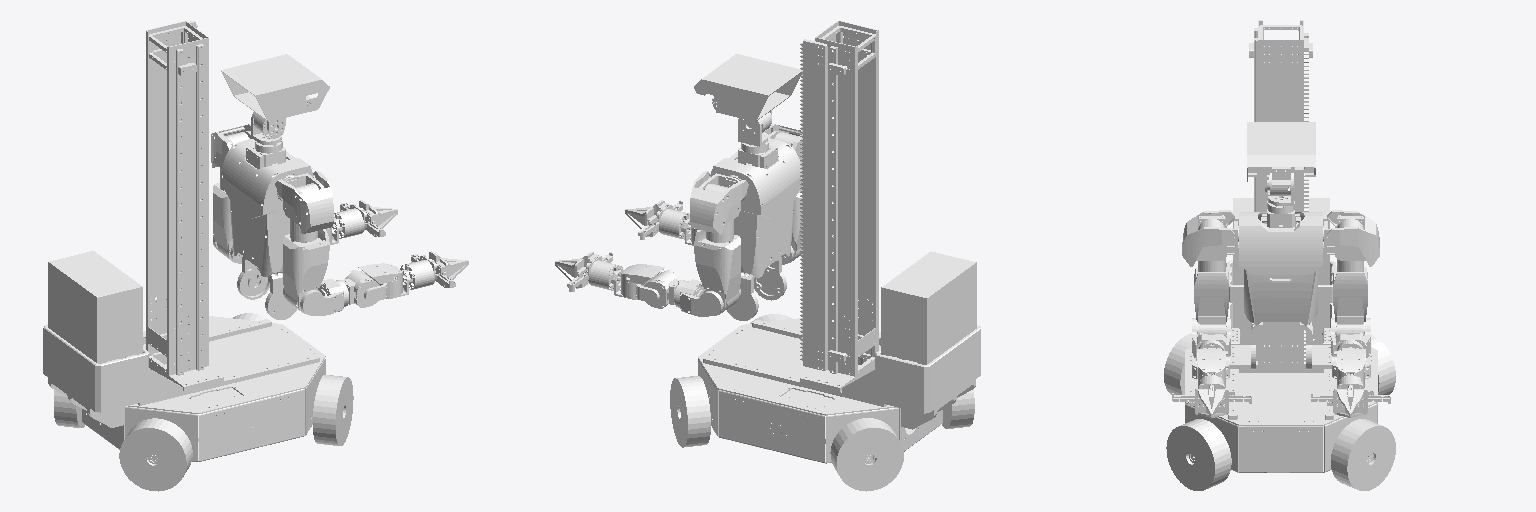
--- What the picture shows (computed from the rendered views, not written in the file) ---
Views: 3 orthographic renders of the robot side by side, from view 1: azimuth 30°, elevation 25°; view 2: azimuth 150°, elevation 25°; view 3: azimuth 270°, elevation 25°.
Robot: converted_robot — 46 links, 45 joints (17 revolute, 28 fixed); root link world; default pose: all joints at 0.
Visible links, largest first — view 1: root, link2, link4, link15, link16, link17, link20, link19, link11, link7, link6, link18 (+1 smaller); view 2: root, link2, link4, link6, link7, link8, link11, link20, link10, link3, link9, link15; view 3: root, link2, link4, link15, link6, link16, link7, link10, link19, link8, link17, link20 (+2 smaller).
Boxes of the visible links, left/top/right/bottom form: root: left=43, top=21, right=353, bottom=491; link2: left=221, top=139, right=312, bottom=319; link4: left=221, top=54, right=329, bottom=136; link15: left=275, top=171, right=333, bottom=242; link16: left=283, top=229, right=329, bottom=313; link17: left=283, top=279, right=348, bottom=315; link20: left=386, top=254, right=455, bottom=298; link19: left=358, top=263, right=402, bottom=301; link11: left=330, top=203, right=385, bottom=244; link7: left=213, top=183, right=235, bottom=262; link6: left=211, top=124, right=250, bottom=190; link18: left=342, top=270, right=379, bottom=307; root: left=670, top=21, right=980, bottom=491; link2: left=711, top=138, right=801, bottom=320; link4: left=694, top=54, right=802, bottom=121; link6: left=690, top=171, right=748, bottom=242; link7: left=694, top=230, right=740, bottom=314; link8: left=674, top=279, right=740, bottom=316; link11: left=567, top=252, right=637, bottom=299; link20: left=638, top=200, right=693, bottom=245; link10: left=621, top=264, right=664, bottom=302; link3: left=738, top=112, right=771, bottom=146; link9: left=644, top=270, right=679, bottom=308; link15: left=764, top=124, right=801, bottom=190; root: left=1164, top=20, right=1395, bottom=490; link2: left=1238, top=201, right=1323, bottom=369; link4: left=1247, top=122, right=1315, bottom=191; link15: left=1182, top=210, right=1234, bottom=271; link6: left=1327, top=210, right=1379, bottom=271; link16: left=1194, top=267, right=1228, bottom=336; link7: left=1333, top=267, right=1367, bottom=335; link10: left=1332, top=351, right=1370, bottom=387; link19: left=1192, top=351, right=1229, bottom=388; link8: left=1331, top=318, right=1370, bottom=359; link17: left=1192, top=318, right=1230, bottom=359; link20: left=1172, top=374, right=1251, bottom=408.
Size in the robot's own frame: 0.9049 by 0.5054 by 0.963 metres.
Meshes: 23 distinct files referenced, 44 mesh visuals loaded (22 binary STL); not drawn: 2 (reference not matched to a file when rendering).

robot.urdf — converted_robot:
<?xml version="1.0" ?>
<robot name="converted_robot">
   <!--generated with mjcf_urdf_simple_converter (https://github.com/Yasu31/mjcf_urdf_simple_converter)-->
   <link name="world">
      <inertial>
         <origin xyz="0.0 0.0 0.0" rpy="0.0 0.0 0.0"/>
         <mass value="0.0"/>
         <inertia ixx="0.0" iyy="0.0" izz="0.0" ixy="0" ixz="0" iyz="0"/>
      </inertial>
   </link>
   <link name="root">
      <inertial>
         <origin xyz="-0.04852847103017505 0.0003415835183364383 0.16287500669757893" rpy="-0.3533195321034629 0.019688133800799923 1.5918492551555619"/>
         <mass value="119.88571006934463"/>
         <inertia ixx="6.263952309625989" iyy="5.180138643967895" izz="3.3478971078051813" ixy="0" ixz="0" iyz="0"/>
      </inertial>
      <visual name="base_link">
         <origin xyz="-0.04852847103017505 0.0003415835183364383 0.16287500669757893" rpy="-0.35331953207738753 0.01968813428564342 1.5918492564531967"/>
         <geometry>
            <mesh filename="converted_base_link.stl"/>
         </geometry>
         <material name="white"/>
      </visual>
      <visual name="base_link">
         <origin xyz="-0.04852847103017505 0.0003415835183364383 0.16287500669757893" rpy="-0.35331953207738753 0.01968813428564342 1.5918492564531967"/>
         <geometry>
            <mesh filename="converted_base_link.stl"/>
         </geometry>
         <material name="white"/>
      </visual>
   </link>
   <joint type="fixed" name="world2root_fixed">
      <parent link="world"/>
      <child link="root"/>
      <origin xyz="0.0 0.0 0.05" rpy="0.0 0.0 0.0"/>
   </joint>
   <link name="link1">
      <inertial>
         <origin xyz="-0.010805 -0.00069779 -0.059694" rpy="-0.49485325156543425 -1.5232990928639514 -2.6441288602455355"/>
         <mass value="6.205"/>
         <inertia ixx="0.0672963" iyy="0.0603866" izz="0.019857" ixy="0" ixz="0" iyz="0"/>
      </inertial>
      <visual name="link1">
         <origin xyz="-0.04279064031251925 -0.0017203424409860362 -0.060254987938210776" rpy="2.4629428494877446 -1.549671796387563 0.6632190085288882"/>
         <geometry>
            <mesh filename="converted_link1.stl"/>
         </geometry>
         <material name="white"/>
      </visual>
      <visual name="link1">
         <origin xyz="-0.04279064031251925 -0.0017203424409860362 -0.060254987938210776" rpy="2.4629428494877446 -1.549671796387563 0.6632190085288882"/>
         <geometry>
            <mesh filename="converted_link1.stl"/>
         </geometry>
         <material name="white"/>
      </visual>
   </link>
   <link name="joint1_jointbody">
      <inertial>
         <origin xyz="0.0 0.0 0.0" rpy="0.0 0.0 0.0"/>
         <mass value="0.001"/>
         <inertia ixx="1e-09" iyy="1e-09" izz="1e-09" ixy="0" ixz="0" iyz="0"/>
      </inertial>
   </link>
   <joint type="fixed" name="joint1">
      <parent link="root"/>
      <child link="joint1_jointbody"/>
      <origin xyz="0.096 0.0 0.31" rpy="0.0 0.0 0.0"/>
   </joint>
   <joint type="fixed" name="joint1_offset">
      <parent link="joint1_jointbody"/>
      <child link="link1"/>
      <origin xyz="-0.0 -0.0 -0.0" rpy="0.0 0.0 0.0"/>
   </joint>
   <link name="link2">
      <inertial>
         <origin xyz="-0.000779579 0.0537606 0.220464" rpy="0.015632349610871614 0.0009943289719127613 -7.37235183460019e-05"/>
         <mass value="3.01263"/>
         <inertia ixx="0.03987" iyy="0.0346161" izz="0.00966387" ixy="0" ixz="0" iyz="0"/>
      </inertial>
      <visual name="link2">
         <origin xyz="-0.0005660046190651351 0.05454722555755916 0.20889740096711057" rpy="0.005694531138670718 0.013709317993208625 -0.00042375272527565887"/>
         <geometry>
            <mesh filename="converted_link2.stl"/>
         </geometry>
         <material name="white"/>
      </visual>
      <visual name="link2">
         <origin xyz="-0.0005660046190651351 0.05454722555755916 0.20889740096711057" rpy="0.005694531138670718 0.013709317993208625 -0.00042375272527565887"/>
         <geometry>
            <mesh filename="converted_link2.stl"/>
         </geometry>
         <material name="white"/>
      </visual>
   </link>
   <link name="joint2_jointbody">
      <inertial>
         <origin xyz="0.0 0.0 0.0" rpy="0.0 0.0 0.0"/>
         <mass value="0.001"/>
         <inertia ixx="1e-09" iyy="1e-09" izz="1e-09" ixy="0" ixz="0" iyz="0"/>
      </inertial>
   </link>
   <joint type="revolute" name="joint2">
      <parent link="link1"/>
      <child link="joint2_jointbody"/>
      <origin xyz="0.066 -0.0546 -0.06" rpy="0.0 0.0 0.0"/>
      <axis xyz="0.0 -1.0 0.0"/>
      <limit lower="-10.0" upper="10.0" effort="100" velocity="100"/>
   </joint>
   <joint type="fixed" name="joint2_offset">
      <parent link="joint2_jointbody"/>
      <child link="link2"/>
      <origin xyz="-0.0 -0.0 -0.0" rpy="0.0 0.0 0.0"/>
   </joint>
   <link name="link3">
      <inertial>
         <origin xyz="-1.21665e-08 0.000155101 0.0414775" rpy="-0.122489376087997 0.0 0.0"/>
         <mass value="0.429407"/>
         <inertia ixx="0.00027" iyy="0.000261231" izz="0.000178769" ixy="0" ixz="0" iyz="0"/>
      </inertial>
      <visual name="link3">
         <origin xyz="-7.866372030519847e-06 0.003721185951157313 0.03829299333383375" rpy="-0.1301123989998702 -0.0028803308494962376 -0.0063113220355609095"/>
         <geometry>
            <mesh filename="converted_link3.stl"/>
         </geometry>
         <material name="white"/>
      </visual>
      <visual name="link3">
         <origin xyz="-7.866372030519847e-06 0.003721185951157313 0.03829299333383375" rpy="-0.1301123989998702 -0.0028803308494962376 -0.0063113220355609095"/>
         <geometry>
            <mesh filename="converted_link3.stl"/>
         </geometry>
         <material name="white"/>
      </visual>
   </link>
   <link name="joint3_jointbody">
      <inertial>
         <origin xyz="0.0 0.0 0.0" rpy="0.0 0.0 0.0"/>
         <mass value="0.001"/>
         <inertia ixx="1e-09" iyy="1e-09" izz="1e-09" ixy="0" ixz="0" iyz="0"/>
      </inertial>
   </link>
   <joint type="revolute" name="joint3">
      <parent link="link2"/>
      <child link="joint3_jointbody"/>
      <origin xyz="0.0 0.0544 0.356" rpy="0.0 0.0 0.0"/>
      <axis xyz="0.0 0.0 1.0"/>
      <limit lower="-10.0" upper="10.0" effort="100" velocity="100"/>
   </joint>
   <joint type="fixed" name="joint3_offset">
      <parent link="joint3_jointbody"/>
      <child link="link3"/>
      <origin xyz="-0.0 -0.0 -0.0" rpy="0.0 0.0 0.0"/>
   </joint>
   <link name="link4">
      <inertial>
         <origin xyz="0.0145475 0.0229595 0.0787914" rpy="0.9944161866435222 -1.4679613193718417 0.49433471310803956"/>
         <mass value="1.5442"/>
         <inertia ixx="0.0077037" iyy="0.00575032" izz="0.00475598" ixy="0" ixz="0" iyz="0"/>
      </inertial>
      <visual name="link4">
         <origin xyz="0.01913488345254536 0.023134307893181157 0.07531407105933675" rpy="-2.0627510280259562 -1.4689324996351498 -2.592333398177418"/>
         <geometry>
            <mesh filename="converted_link4.stl"/>
         </geometry>
         <material name="white"/>
      </visual>
      <visual name="link4">
         <origin xyz="0.01913488345254536 0.023134307893181157 0.07531407105933675" rpy="-2.0627510280259562 -1.4689324996351498 -2.592333398177418"/>
         <geometry>
            <mesh filename="converted_link4.stl"/>
         </geometry>
         <material name="white"/>
      </visual>
   </link>
   <link name="joint4_jointbody">
      <inertial>
         <origin xyz="0.0 0.0 0.0" rpy="0.0 0.0 0.0"/>
         <mass value="0.001"/>
         <inertia ixx="1e-09" iyy="1e-09" izz="1e-09" ixy="0" ixz="0" iyz="0"/>
      </inertial>
   </link>
   <joint type="revolute" name="joint4">
      <parent link="link3"/>
      <child link="joint4_jointbody"/>
      <origin xyz="0.0 -0.025 0.049" rpy="0.0 0.0 0.0"/>
      <axis xyz="0.0 -1.0 0.0"/>
      <limit lower="-10.0" upper="10.0" effort="100" velocity="100"/>
   </joint>
   <joint type="fixed" name="joint4_offset">
      <parent link="joint4_jointbody"/>
      <child link="link4"/>
      <origin xyz="-0.0 -0.0 -0.0" rpy="0.0 0.0 0.0"/>
   </joint>
   <link name="link5">
      <inertial>
         <origin xyz="0.0203119 0.0282075 -0.000172804" rpy="1.5707963267948968 0.0 0.6060116952152586"/>
         <mass value="0.131892"/>
         <inertia ixx="0.00014772" iyy="0.00014" izz="6.228e-05" ixy="0" ixz="0" iyz="0"/>
      </inertial>
      <visual name="link5">
         <origin xyz="0.02099007423509217 0.03224630251357731 -0.00013816616853326824" rpy="1.5787187051691933 0.004732859268897327 -0.5420358889419628"/>
         <geometry>
            <mesh filename="converted_link5.stl"/>
         </geometry>
         <material name="white"/>
      </visual>
      <visual name="link5">
         <origin xyz="0.02099007423509217 0.03224630251357731 -0.00013816616853326824" rpy="1.5787187051691933 0.004732859268897327 -0.5420358889419628"/>
         <geometry>
            <mesh filename="converted_link5.stl"/>
         </geometry>
         <material name="white"/>
      </visual>
   </link>
   <link name="joint5_jointbody">
      <inertial>
         <origin xyz="0.0 0.0 0.0" rpy="0.0 0.0 0.0"/>
         <mass value="0.001"/>
         <inertia ixx="1e-09" iyy="1e-09" izz="1e-09" ixy="0" ixz="0" iyz="0"/>
      </inertial>
   </link>
   <joint type="revolute" name="joint5">
      <parent link="link2"/>
      <child link="joint5_jointbody"/>
      <origin xyz="0.0 0.1424 0.28" rpy="0.0 0.0 0.0"/>
      <axis xyz="0.0 1.0 0.0"/>
      <limit lower="-10.0" upper="10.0" effort="100" velocity="100"/>
   </joint>
   <joint type="fixed" name="joint5_offset">
      <parent link="joint5_jointbody"/>
      <child link="link5"/>
      <origin xyz="-0.0 -0.0 -0.0" rpy="0.0 0.0 0.0"/>
   </joint>
   <link name="link6">
      <inertial>
         <origin xyz="-0.0244519 0.0044012 -0.0251862" rpy="-0.008146491296356695 -0.10371076043319283 0.6922357794422392"/>
         <mass value="1.03162"/>
         <inertia ixx="0.00170434" iyy="0.00163464" izz="0.000871019" ixy="0" ixz="0" iyz="0"/>
      </inertial>
      <visual name="link6">
         <origin xyz="-0.023221991530689302 0.00885153074034593 -0.018084159233874648" rpy="-0.0600440448280847 0.08583405194480132 -0.5476836029025846"/>
         <geometry>
            <mesh filename="converted_link6.stl"/>
         </geometry>
         <material name="white"/>
      </visual>
      <visual name="link6">
         <origin xyz="-0.023221991530689302 0.00885153074034593 -0.018084159233874648" rpy="-0.0600440448280847 0.08583405194480132 -0.5476836029025846"/>
         <geometry>
            <mesh filename="converted_link6.stl"/>
         </geometry>
         <material name="white"/>
      </visual>
   </link>
   <link name="joint6_jointbody">
      <inertial>
         <origin xyz="0.0 0.0 0.0" rpy="0.0 0.0 0.0"/>
         <mass value="0.001"/>
         <inertia ixx="1e-09" iyy="1e-09" izz="1e-09" ixy="0" ixz="0" iyz="0"/>
      </inertial>
   </link>
   <joint type="revolute" name="joint6">
      <parent link="link5"/>
      <child link="joint6_jointbody"/>
      <origin xyz="0.02725 0.063 0.0" rpy="0.0 0.0 0.0"/>
      <axis xyz="-1.0 0.0 0.0"/>
      <limit lower="-10.0" upper="10.0" effort="100" velocity="100"/>
   </joint>
   <joint type="fixed" name="joint6_offset">
      <parent link="joint6_jointbody"/>
      <child link="link6"/>
      <origin xyz="-0.0 -0.0 -0.0" rpy="0.0 0.0 0.0"/>
   </joint>
   <link name="link7">
      <inertial>
         <origin xyz="0.000827778 -0.00148365 -0.105295" rpy="-0.0437077938909366 -0.03807758975942188 1.2706123527188455"/>
         <mass value="0.736099"/>
         <inertia ixx="0.0023016" iyy="0.00229412" izz="0.000594285" ixy="0" ixz="0" iyz="0"/>
      </inertial>
      <visual name="link7">
         <origin xyz="-4.5998849127334915e-05 -0.00020565504716729704 -0.0818401468793201" rpy="0.07316206476058285 0.009006851907546354 1.5352480345286383"/>
         <geometry>
            <mesh filename="converted_link7.stl"/>
         </geometry>
         <material name="white"/>
      </visual>
      <visual name="link7">
         <origin xyz="-4.5998849127334915e-05 -0.00020565504716729704 -0.0818401468793201" rpy="0.07316206476058285 0.009006851907546354 1.5352480345286383"/>
         <geometry>
            <mesh filename="converted_link7.stl"/>
         </geometry>
         <material name="white"/>
      </visual>
   </link>
   <link name="joint7_jointbody">
      <inertial>
         <origin xyz="0.0 0.0 0.0" rpy="0.0 0.0 0.0"/>
         <mass value="0.001"/>
         <inertia ixx="1e-09" iyy="1e-09" izz="1e-09" ixy="0" ixz="0" iyz="0"/>
      </inertial>
   </link>
   <joint type="revolute" name="joint7">
      <parent link="link6"/>
      <child link="joint7_jointbody"/>
      <origin xyz="-0.02725 0.0 -0.0865" rpy="0.0 0.0 0.0"/>
      <axis xyz="0.0 0.0 -1.0"/>
      <limit lower="-10.0" upper="10.0" effort="100" velocity="100"/>
   </joint>
   <joint type="fixed" name="joint7_offset">
      <parent link="joint7_jointbody"/>
      <child link="link7"/>
      <origin xyz="-0.0 -0.0 -0.0" rpy="0.0 0.0 0.0"/>
   </joint>
   <link name="link8">
      <inertial>
         <origin xyz="0.0593724 0.0253236 -0.012597" rpy="-0.5747884271468608 -1.3148572922484472 -2.71337210972015"/>
         <mass value="0.487507"/>
         <inertia ixx="0.00070775" iyy="0.000552568" izz="0.000379682" ixy="0" ixz="0" iyz="0"/>
      </inertial>
      <visual name="link8">
         <origin xyz="0.047401188432059094 0.027576219402556775 -0.011109991672914375" rpy="3.0582311535818043 -1.3609809998463582 0.028842544859798425"/>
         <geometry>
            <mesh filename="converted_link8.stl"/>
         </geometry>
         <material name="white"/>
      </visual>
      <visual name="link8">
         <origin xyz="0.047401188432059094 0.027576219402556775 -0.011109991672914375" rpy="3.0582311535818043 -1.3609809998463582 0.028842544859798425"/>
         <geometry>
            <mesh filename="converted_link8.stl"/>
         </geometry>
         <material name="white"/>
      </visual>
   </link>
   <link name="joint8_jointbody">
      <inertial>
         <origin xyz="0.0 0.0 0.0" rpy="0.0 0.0 0.0"/>
         <mass value="0.001"/>
         <inertia ixx="1e-09" iyy="1e-09" izz="1e-09" ixy="0" ixz="0" iyz="0"/>
      </inertial>
   </link>
   <joint type="revolute" name="joint8">
      <parent link="link7"/>
      <child link="joint8_jointbody"/>
      <origin xyz="0.0 -0.02725 -0.1435" rpy="0.0 0.0 0.0"/>
      <axis xyz="0.0 -1.0 0.0"/>
      <limit lower="-10.0" upper="10.0" effort="100" velocity="100"/>
   </joint>
   <joint type="fixed" name="joint8_offset">
      <parent link="joint8_jointbody"/>
      <child link="link8"/>
      <origin xyz="-0.0 -0.0 -0.0" rpy="0.0 0.0 0.0"/>
   </joint>
   <link name="link9">
      <inertial>
         <origin xyz="0.0458969 -0.000535553 -9.66306e-05" rpy="3.141592653589793 -1.5707963267948963 0.0"/>
         <mass value="0.487432"/>
         <inertia ixx="0.00029" iyy="0.00027" izz="0.00024" ixy="0" ixz="0" iyz="0"/>
      </inertial>
      <visual name="link9">
         <origin xyz="0.04548191708581284 0.0028695820891326647 -0.00018072136386044016" rpy="1.3679059454017206 -1.4758015672524352 1.8542857990266974"/>
         <geometry>
            <mesh filename="converted_link9.stl"/>
         </geometry>
         <material name="white"/>
      </visual>
      <visual name="link9">
         <origin xyz="0.04548191708581284 0.0028695820891326647 -0.00018072136386044016" rpy="1.3679059454017206 -1.4758015672524352 1.8542857990266974"/>
         <geometry>
            <mesh filename="converted_link9.stl"/>
         </geometry>
         <material name="white"/>
      </visual>
   </link>
   <link name="joint9_jointbody">
      <inertial>
         <origin xyz="0.0 0.0 0.0" rpy="0.0 0.0 0.0"/>
         <mass value="0.001"/>
         <inertia ixx="1e-09" iyy="1e-09" izz="1e-09" ixy="0" ixz="0" iyz="0"/>
      </inertial>
   </link>
   <joint type="revolute" name="joint9">
      <parent link="link8"/>
      <child link="joint9_jointbody"/>
      <origin xyz="0.0945 0.02725 -0.015" rpy="0.0 0.0 0.0"/>
      <axis xyz="1.0 0.0 0.0"/>
      <limit lower="-10.0" upper="10.0" effort="100" velocity="100"/>
   </joint>
   <joint type="fixed" name="joint9_offset">
      <parent link="joint9_jointbody"/>
      <child link="link9"/>
      <origin xyz="-0.0 -0.0 -0.0" rpy="0.0 0.0 0.0"/>
   </joint>
   <link name="link10">
      <inertial>
         <origin xyz="0.0575036 0.0264951 0.00135889" rpy="-0.46034331397388506 -1.4410273436027163 -2.9038559812612608"/>
         <mass value="0.432944"/>
         <inertia ixx="0.000412537" iyy="0.000334457" izz="0.000243007" ixy="0" ixz="0" iyz="0"/>
      </inertial>
      <visual name="link10">
         <origin xyz="0.050477373200438734 0.02693931096704617 0.004540160150436855" rpy="-2.915929787743023 -1.4713081981370602 -0.13604563196315933"/>
         <geometry>
            <mesh filename="converted_link10.stl"/>
         </geometry>
         <material name="white"/>
      </visual>
      <visual name="link10">
         <origin xyz="0.050477373200438734 0.02693931096704617 0.004540160150436855" rpy="-2.915929787743023 -1.4713081981370602 -0.13604563196315933"/>
         <geometry>
            <mesh filename="converted_link10.stl"/>
         </geometry>
         <material name="white"/>
      </visual>
   </link>
   <link name="joint10_jointbody">
      <inertial>
         <origin xyz="0.0 0.0 0.0" rpy="0.0 0.0 0.0"/>
         <mass value="0.001"/>
         <inertia ixx="1e-09" iyy="1e-09" izz="1e-09" ixy="0" ixz="0" iyz="0"/>
      </inertial>
   </link>
   <joint type="revolute" name="joint10">
      <parent link="link9"/>
      <child link="joint10_jointbody"/>
      <origin xyz="0.05 -0.02725 0.0" rpy="0.0 0.0 0.0"/>
      <axis xyz="0.0 -1.0 0.0"/>
      <limit lower="-10.0" upper="10.0" effort="100" velocity="100"/>
   </joint>
   <joint type="fixed" name="joint10_offset">
      <parent link="joint10_jointbody"/>
      <child link="link10"/>
      <origin xyz="-0.0 -0.0 -0.0" rpy="0.0 0.0 0.0"/>
   </joint>
   <link name="link11">
      <inertial>
         <origin xyz="0.0782375 2.27689e-05 0.0203908" rpy="3.141592653589793 -1.3389716561767864 0.0"/>
         <mass value="0.471848"/>
         <inertia ixx="0.000654164" iyy="0.00043" izz="0.000385836" ixy="0" ixz="0" iyz="0"/>
      </inertial>
      <visual name="link11">
         <origin xyz="0.07362824162043753 -2.331321614421242e-05 0.01871405431135857" rpy="0.03831388230734878 -1.3358837133540864 3.095117599161929"/>
         <geometry>
            <mesh filename="converted_link11.stl"/>
         </geometry>
         <material name="white"/>
      </visual>
      <visual name="link11">
         <origin xyz="0.07362824162043753 -2.331321614421242e-05 0.01871405431135857" rpy="0.03831388230734878 -1.3358837133540864 3.095117599161929"/>
         <geometry>
            <mesh filename="converted_link11.stl"/>
         </geometry>
         <material name="white"/>
      </visual>
   </link>
   <link name="joint11_jointbody">
      <inertial>
         <origin xyz="0.0 0.0 0.0" rpy="0.0 0.0 0.0"/>
         <mass value="0.001"/>
         <inertia ixx="1e-09" iyy="1e-09" izz="1e-09" ixy="0" ixz="0" iyz="0"/>
      </inertial>
   </link>
   <joint type="revolute" name="joint11">
      <parent link="link10"/>
      <child link="joint11_jointbody"/>
      <origin xyz="0.066 0.02725 -0.022" rpy="0.0 0.0 0.0"/>
      <axis xyz="0.0 0.0 -1.0"/>
      <limit lower="-10.0" upper="10.0" effort="100" velocity="100"/>
   </joint>
   <joint type="fixed" name="joint11_offset">
      <parent link="joint11_jointbody"/>
      <child link="link11"/>
      <origin xyz="-0.0 -0.0 -0.0" rpy="0.0 0.0 0.0"/>
   </joint>
   <link name="link12">
      <inertial>
         <origin xyz="-0.000355223 -0.00782704 -0.00298832" rpy="1.5707963267948966 0.0 1.5707963267948966"/>
         <mass value="0.0647982"/>
         <inertia ixx="3e-05" iyy="3e-05" izz="2e-05" ixy="0" ixz="0" iyz="0"/>
      </inertial>
      <visual name="link12">
         <origin xyz="0.003370067669657218 -0.011765576417701496 -0.0044182172664627975" rpy="-0.8849293277439754 -1.2136327819907193 -2.2689848983603635"/>
         <geometry>
            <mesh filename="converted_link12.stl"/>
         </geometry>
         <material name="white"/>
      </visual>
      <visual name="link12">
         <origin xyz="0.003370067669657218 -0.011765576417701496 -0.0044182172664627975" rpy="-0.8849293277439754 -1.2136327819907193 -2.2689848983603635"/>
         <geometry>
            <mesh filename="converted_link12.stl"/>
         </geometry>
         <material name="white"/>
      </visual>
   </link>
   <link name="joint12_jointbody">
      <inertial>
         <origin xyz="0.0 0.0 0.0" rpy="0.0 0.0 0.0"/>
         <mass value="0.001"/>
         <inertia ixx="1e-09" iyy="1e-09" izz="1e-09" ixy="0" ixz="0" iyz="0"/>
      </inertial>
   </link>
   <joint type="fixed" name="joint12">
      <parent link="link11"/>
      <child link="joint12_jointbody"/>
      <origin xyz="0.12737 0.024896 0.021756" rpy="0.0 0.0 0.0"/>
   </joint>
   <joint type="fixed" name="joint12_offset">
      <parent link="joint12_jointbody"/>
      <child link="link12"/>
      <origin xyz="-0.0 -0.0 -0.0" rpy="0.0 0.0 0.0"/>
   </joint>
   <link name="link13">
      <inertial>
         <origin xyz="-0.000355223 0.00782769 0.00242006" rpy="1.5707963267948966 0.0 1.5707963267948966"/>
         <mass value="0.0647982"/>
         <inertia ixx="3e-05" iyy="3e-05" izz="2e-05" ixy="0" ixz="0" iyz="0"/>
      </inertial>
      <visual name="link13">
         <origin xyz="0.0032910021050549746 0.011785373143773929 0.002409313344142531" rpy="-2.7447749529550665 -1.091561071276139 -0.44250168285946234"/>
         <geometry>
            <mesh filename="converted_link13.stl"/>
         </geometry>
         <material name="white"/>
      </visual>
      <visual name="link13">
         <origin xyz="0.0032910021050549746 0.011785373143773929 0.002409313344142531" rpy="-2.7447749529550665 -1.091561071276139 -0.44250168285946234"/>
         <geometry>
            <mesh filename="converted_link13.stl"/>
         </geometry>
         <material name="white"/>
      </visual>
   </link>
   <link name="joint13_jointbody">
      <inertial>
         <origin xyz="0.0 0.0 0.0" rpy="0.0 0.0 0.0"/>
         <mass value="0.001"/>
         <inertia ixx="1e-09" iyy="1e-09" izz="1e-09" ixy="0" ixz="0" iyz="0"/>
      </inertial>
   </link>
   <joint type="fixed" name="joint13">
      <parent link="link11"/>
      <child link="joint13_jointbody"/>
      <origin xyz="0.12737 -0.0249 0.021756" rpy="0.0 0.0 0.0"/>
   </joint>
   <joint type="fixed" name="joint13_offset">
      <parent link="joint13_jointbody"/>
      <child link="link13"/>
      <origin xyz="-0.0 -0.0 -0.0" rpy="0.0 0.0 0.0"/>
   </joint>
   <link name="link14">
      <inertial>
         <origin xyz="0.0203119 -0.0282075 -0.000172804" rpy="1.5707963267948968 0.0 -0.6060116952152586"/>
         <mass value="0.131892"/>
         <inertia ixx="0.00014772" iyy="0.00014" izz="6.228e-05" ixy="0" ixz="0" iyz="0"/>
      </inertial>
      <visual name="link14">
         <origin xyz="0.020989957237098993 -0.03224591118039075 -0.0001378645321081148" rpy="1.562883456930217 0.004700033028127049 0.5420381631113562"/>
         <geometry>
            <mesh filename="converted_link14.stl"/>
         </geometry>
         <material name="white"/>
      </visual>
      <visual name="link14">
         <origin xyz="0.020989957237098993 -0.03224591118039075 -0.0001378645321081148" rpy="1.562883456930217 0.004700033028127049 0.5420381631113562"/>
         <geometry>
            <mesh filename="converted_link14.stl"/>
         </geometry>
         <material name="white"/>
      </visual>
   </link>
   <link name="joint14_jointbody">
      <inertial>
         <origin xyz="0.0 0.0 0.0" rpy="0.0 0.0 0.0"/>
         <mass value="0.001"/>
         <inertia ixx="1e-09" iyy="1e-09" izz="1e-09" ixy="0" ixz="0" iyz="0"/>
      </inertial>
   </link>
   <joint type="revolute" name="joint14">
      <parent link="link2"/>
      <child link="joint14_jointbody"/>
      <origin xyz="0.0 -0.0336 0.28" rpy="0.0 0.0 0.0"/>
      <axis xyz="0.0 -1.0 0.0"/>
      <limit lower="-10.0" upper="10.0" effort="100" velocity="100"/>
   </joint>
   <joint type="fixed" name="joint14_offset">
      <parent link="joint14_jointbody"/>
      <child link="link14"/>
      <origin xyz="-0.0 -0.0 -0.0" rpy="0.0 0.0 0.0"/>
   </joint>
   <link name="link15">
      <inertial>
         <origin xyz="-0.0244519 -0.00440118 -0.0251861" rpy="0.008146491296356695 -0.10371076043319283 -0.6922357794422392"/>
         <mass value="1.03162"/>
         <inertia ixx="0.00170434" iyy="0.00163464" izz="0.000871019" ixy="0" ixz="0" iyz="0"/>
      </inertial>
      <visual name="link15">
         <origin xyz="-0.023222576522631724 -0.008850509359146443 -0.018083958923154727" rpy="0.060084138582850805 0.08579635248713546 0.5474708265729046"/>
         <geometry>
            <mesh filename="converted_link15.stl"/>
         </geometry>
         <material name="white"/>
      </visual>
      <visual name="link15">
         <origin xyz="-0.023222576522631724 -0.008850509359146443 -0.018083958923154727" rpy="0.060084138582850805 0.08579635248713546 0.5474708265729046"/>
         <geometry>
            <mesh filename="converted_link15.stl"/>
         </geometry>
         <material name="white"/>
      </visual>
   </link>
   <link name="joint15_jointbody">
      <inertial>
         <origin xyz="0.0 0.0 0.0" rpy="0.0 0.0 0.0"/>
         <mass value="0.001"/>
         <inertia ixx="1e-09" iyy="1e-09" izz="1e-09" ixy="0" ixz="0" iyz="0"/>
      </inertial>
   </link>
   <joint type="revolute" name="joint15">
      <parent link="link14"/>
      <child link="joint15_jointbody"/>
      <origin xyz="0.02725 -0.063 0.0" rpy="0.0 0.0 0.0"/>
      <axis xyz="-1.0 0.0 0.0"/>
      <limit lower="-10.0" upper="10.0" effort="100" velocity="100"/>
   </joint>
   <joint type="fixed" name="joint15_offset">
      <parent link="joint15_jointbody"/>
      <child link="link15"/>
      <origin xyz="-0.0 -0.0 -0.0" rpy="0.0 0.0 0.0"/>
   </joint>
   <link name="link16">
      <inertial>
         <origin xyz="0.00082778 0.00148435 -0.105295" rpy="-0.0437077938909366 0.038077589759422104 1.8709803008709476"/>
         <mass value="0.736099"/>
         <inertia ixx="0.0023016" iyy="0.00229412" izz="0.000594285" ixy="0" ixz="0" iyz="0"/>
      </inertial>
      <visual name="link16">
         <origin xyz="-4.5762659382755435e-05 0.00020629982047887875 -0.08184108456668529" rpy="0.07314898361623201 -0.009006122075727818 1.6064619365330453"/>
         <geometry>
            <mesh filename="converted_link16.stl"/>
         </geometry>
         <material name="white"/>
      </visual>
      <visual name="link16">
         <origin xyz="-4.5762659382755435e-05 0.00020629982047887875 -0.08184108456668529" rpy="0.07314898361623201 -0.009006122075727818 1.6064619365330453"/>
         <geometry>
            <mesh filename="converted_link16.stl"/>
         </geometry>
         <material name="white"/>
      </visual>
   </link>
   <link name="joint16_jointbody">
      <inertial>
         <origin xyz="0.0 0.0 0.0" rpy="0.0 0.0 0.0"/>
         <mass value="0.001"/>
         <inertia ixx="1e-09" iyy="1e-09" izz="1e-09" ixy="0" ixz="0" iyz="0"/>
      </inertial>
   </link>
   <joint type="revolute" name="joint16">
      <parent link="link15"/>
      <child link="joint16_jointbody"/>
      <origin xyz="-0.02725 0.0 -0.0865" rpy="0.0 0.0 0.0"/>
      <axis xyz="0.0 0.0 -1.0"/>
      <limit lower="-10.0" upper="10.0" effort="100" velocity="100"/>
   </joint>
   <joint type="fixed" name="joint16_offset">
      <parent link="joint16_jointbody"/>
      <child link="link16"/>
      <origin xyz="-0.0 -0.0 -0.0" rpy="0.0 0.0 0.0"/>
   </joint>
   <link name="link17">
      <inertial>
         <origin xyz="0.0593724 -0.0253233 -0.0127287" rpy="0.5747884271468608 -1.3148572922484472 2.7133721097201504"/>
         <mass value="0.487507"/>
         <inertia ixx="0.00070775" iyy="0.000552568" izz="0.000379682" ixy="0" ixz="0" iyz="0"/>
      </inertial>
      <visual name="link17">
         <origin xyz="0.04741309148056296 -0.027575501982071395 -0.011190702736682588" rpy="-3.0587410684204492 -1.3574203579511082 -0.028760103722633934"/>
         <geometry>
            <mesh filename="converted_link17.stl"/>
         </geometry>
         <material name="white"/>
      </visual>
      <visual name="link17">
         <origin xyz="0.04741309148056296 -0.027575501982071395 -0.011190702736682588" rpy="-3.0587410684204492 -1.3574203579511082 -0.028760103722633934"/>
         <geometry>
            <mesh filename="converted_link17.stl"/>
         </geometry>
         <material name="white"/>
      </visual>
   </link>
   <link name="joint17_jointbody">
      <inertial>
         <origin xyz="0.0 0.0 0.0" rpy="0.0 0.0 0.0"/>
         <mass value="0.001"/>
         <inertia ixx="1e-09" iyy="1e-09" izz="1e-09" ixy="0" ixz="0" iyz="0"/>
      </inertial>
   </link>
   <joint type="revolute" name="joint17">
      <parent link="link16"/>
      <child link="joint17_jointbody"/>
      <origin xyz="0.0 0.02725 -0.1435" rpy="0.0 0.0 0.0"/>
      <axis xyz="0.0 1.0 0.0"/>
      <limit lower="-10.0" upper="10.0" effort="100" velocity="100"/>
   </joint>
   <joint type="fixed" name="joint17_offset">
      <parent link="joint17_jointbody"/>
      <child link="link17"/>
      <origin xyz="-0.0 -0.0 -0.0" rpy="0.0 0.0 0.0"/>
   </joint>
   <link name="link18">
      <inertial>
         <origin xyz="0.045897 0.000535553 -2.35789e-05" rpy="3.141592653589793 -1.5707963267948963 0.0"/>
         <mass value="0.487432"/>
         <inertia ixx="0.00029" iyy="0.00027" izz="0.00024" ixy="0" ixz="0" iyz="0"/>
      </inertial>
      <visual name="link18">
         <origin xyz="0.04548196702608258 -0.0028709403125696357 -7.189325260279983e-05" rpy="-1.817960766294271 -1.476778340687006 -1.4094605502652662"/>
         <geometry>
            <mesh filename="converted_link18.stl"/>
         </geometry>
         <material name="white"/>
      </visual>
      <visual name="link18">
         <origin xyz="0.04548196702608258 -0.0028709403125696357 -7.189325260279983e-05" rpy="-1.817960766294271 -1.476778340687006 -1.4094605502652662"/>
         <geometry>
            <mesh filename="converted_link18.stl"/>
         </geometry>
         <material name="white"/>
      </visual>
   </link>
   <link name="joint18_jointbody">
      <inertial>
         <origin xyz="0.0 0.0 0.0" rpy="0.0 0.0 0.0"/>
         <mass value="0.001"/>
         <inertia ixx="1e-09" iyy="1e-09" izz="1e-09" ixy="0" ixz="0" iyz="0"/>
      </inertial>
   </link>
   <joint type="revolute" name="joint18">
      <parent link="link17"/>
      <child link="joint18_jointbody"/>
      <origin xyz="0.0945 -0.02725 -0.015" rpy="0.0 0.0 0.0"/>
      <axis xyz="1.0 0.0 0.0"/>
      <limit lower="-10.0" upper="10.0" effort="100" velocity="100"/>
   </joint>
   <joint type="fixed" name="joint18_offset">
      <parent link="joint18_jointbody"/>
      <child link="link18"/>
      <origin xyz="-0.0 -0.0 -0.0" rpy="0.0 0.0 0.0"/>
   </joint>
   <link name="link19">
      <inertial>
         <origin xyz="0.0575036 -0.0265307 0.00135892" rpy="0.46034331397388484 -1.4410273436027163 2.9038559812612608"/>
         <mass value="0.432944"/>
         <inertia ixx="0.000412537" iyy="0.000334457" izz="0.000243007" ixy="0" ixz="0" iyz="0"/>
      </inertial>
      <visual name="link19">
         <origin xyz="0.05047777435082356 -0.02702554672285 0.004540054839996398" rpy="2.8373387669382963 -1.469563104713077 0.21064888187009023"/>
         <geometry>
            <mesh filename="converted_link19.stl"/>
         </geometry>
         <material name="white"/>
      </visual>
      <visual name="link19">
         <origin xyz="0.05047777435082356 -0.02702554672285 0.004540054839996398" rpy="2.8373387669382963 -1.469563104713077 0.21064888187009023"/>
         <geometry>
            <mesh filename="converted_link19.stl"/>
         </geometry>
         <material name="white"/>
      </visual>
   </link>
   <link name="joint19_jointbody">
      <inertial>
         <origin xyz="0.0 0.0 0.0" rpy="0.0 0.0 0.0"/>
         <mass value="0.001"/>
         <inertia ixx="1e-09" iyy="1e-09" izz="1e-09" ixy="0" ixz="0" iyz="0"/>
      </inertial>
   </link>
   <joint type="revolute" name="joint19">
      <parent link="link18"/>
      <child link="joint19_jointbody"/>
      <origin xyz="0.05 0.02725 0.0" rpy="0.0 0.0 0.0"/>
      <axis xyz="0.0 1.0 0.0"/>
      <limit lower="-10.0" upper="10.0" effort="100" velocity="100"/>
   </joint>
   <joint type="fixed" name="joint19_offset">
      <parent link="joint19_jointbody"/>
      <child link="link19"/>
      <origin xyz="-0.0 -0.0 -0.0" rpy="0.0 0.0 0.0"/>
   </joint>
   <link name="link20">
      <inertial>
         <origin xyz="0.0782375 2.27689e-05 0.0203908" rpy="3.141592653589793 -1.3389716561767864 0.0"/>
         <mass value="0.471848"/>
         <inertia ixx="0.000654164" iyy="0.00043" izz="0.000385836" ixy="0" ixz="0" iyz="0"/>
      </inertial>
      <visual name="link20">
         <origin xyz="0.07362824162038703 -2.3313216144537905e-05 0.018714054311345915" rpy="0.03831388230751864 -1.3358837133541328 3.0951175991619206"/>
         <geometry>
            <mesh filename="converted_link20.stl"/>
         </geometry>
         <material name="white"/>
      </visual>
      <visual name="link20">
         <origin xyz="0.07362824162038703 -2.3313216144537905e-05 0.018714054311345915" rpy="0.03831388230751864 -1.3358837133541328 3.0951175991619206"/>
         <geometry>
            <mesh filename="converted_link20.stl"/>
         </geometry>
         <material name="white"/>
      </visual>
   </link>
   <link name="joint20_jointbody">
      <inertial>
         <origin xyz="0.0 0.0 0.0" rpy="0.0 0.0 0.0"/>
         <mass value="0.001"/>
         <inertia ixx="1e-09" iyy="1e-09" izz="1e-09" ixy="0" ixz="0" iyz="0"/>
      </inertial>
   </link>
   <joint type="revolute" name="joint20">
      <parent link="link19"/>
      <child link="joint20_jointbody"/>
      <origin xyz="0.066 -0.02725 -0.022" rpy="0.0 0.0 0.0"/>
      <axis xyz="0.0 0.0 -1.0"/>
      <limit lower="-10.0" upper="10.0" effort="100" velocity="100"/>
   </joint>
   <joint type="fixed" name="joint20_offset">
      <parent link="joint20_jointbody"/>
      <child link="link20"/>
      <origin xyz="-0.0 -0.0 -0.0" rpy="0.0 0.0 0.0"/>
   </joint>
   <link name="link21">
      <inertial>
         <origin xyz="-0.000355223 -0.00782704 -0.00298832" rpy="1.5707963267948966 0.0 1.5707963267948966"/>
         <mass value="0.0647982"/>
         <inertia ixx="3e-05" iyy="3e-05" izz="2e-05" ixy="0" ixz="0" iyz="0"/>
      </inertial>
      <visual name="link21">
         <origin xyz="0.003370067669657201 -0.011765576417701536 -0.0044182172664628035" rpy="-0.8849293277439718 -1.213632781990719 -2.2689848983603618"/>
         <geometry>
            <mesh filename="converted_link21.stl"/>
         </geometry>
         <material name="white"/>
      </visual>
      <visual name="link21">
         <origin xyz="0.003370067669657201 -0.011765576417701536 -0.0044182172664628035" rpy="-0.8849293277439718 -1.213632781990719 -2.2689848983603618"/>
         <geometry>
            <mesh filename="converted_link21.stl"/>
         </geometry>
         <material name="white"/>
      </visual>
   </link>
   <link name="joint21_jointbody">
      <inertial>
         <origin xyz="0.0 0.0 0.0" rpy="0.0 0.0 0.0"/>
         <mass value="0.001"/>
         <inertia ixx="1e-09" iyy="1e-09" izz="1e-09" ixy="0" ixz="0" iyz="0"/>
      </inertial>
   </link>
   <joint type="fixed" name="joint21">
      <parent link="link20"/>
      <child link="joint21_jointbody"/>
      <origin xyz="0.12737 0.024896 0.021756" rpy="0.0 0.0 0.0"/>
   </joint>
   <joint type="fixed" name="joint21_offset">
      <parent link="joint21_jointbody"/>
      <child link="link21"/>
      <origin xyz="-0.0 -0.0 -0.0" rpy="0.0 0.0 0.0"/>
   </joint>
   <link name="link22">
      <inertial>
         <origin xyz="-0.000355223 0.00782769 0.00242006" rpy="1.5707963267948966 0.0 1.5707963267948966"/>
         <mass value="0.0647982"/>
         <inertia ixx="3e-05" iyy="3e-05" izz="2e-05" ixy="0" ixz="0" iyz="0"/>
      </inertial>
      <visual name="link22">
         <origin xyz="0.003291002105054958 0.011785373143773956 0.0024093133441425384" rpy="-2.744774952955066 -1.0915610712761397 -0.4425016828594628"/>
         <geometry>
            <mesh filename="converted_link22.stl"/>
         </geometry>
         <material name="white"/>
      </visual>
      <visual name="link22">
         <origin xyz="0.003291002105054958 0.011785373143773956 0.0024093133441425384" rpy="-2.744774952955066 -1.0915610712761397 -0.4425016828594628"/>
         <geometry>
            <mesh filename="converted_link22.stl"/>
         </geometry>
         <material name="white"/>
      </visual>
   </link>
   <link name="joint22_jointbody">
      <inertial>
         <origin xyz="0.0 0.0 0.0" rpy="0.0 0.0 0.0"/>
         <mass value="0.001"/>
         <inertia ixx="1e-09" iyy="1e-09" izz="1e-09" ixy="0" ixz="0" iyz="0"/>
      </inertial>
   </link>
   <joint type="fixed" name="joint22">
      <parent link="link20"/>
      <child link="joint22_jointbody"/>
      <origin xyz="0.12737 -0.0249 0.021756" rpy="0.0 0.0 0.0"/>
   </joint>
   <joint type="fixed" name="joint22_offset">
      <parent link="joint22_jointbody"/>
      <child link="link22"/>
      <origin xyz="-0.0 -0.0 -0.0" rpy="0.0 0.0 0.0"/>
   </joint>
   <material name="white">
      <color rgba="1 1 1 1"/>
   </material>
</robot>
